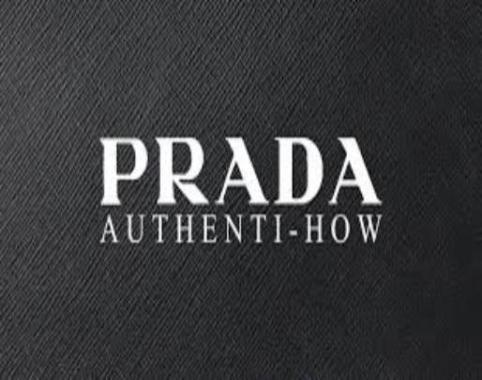PRADA: (90, 126, 386, 214)
